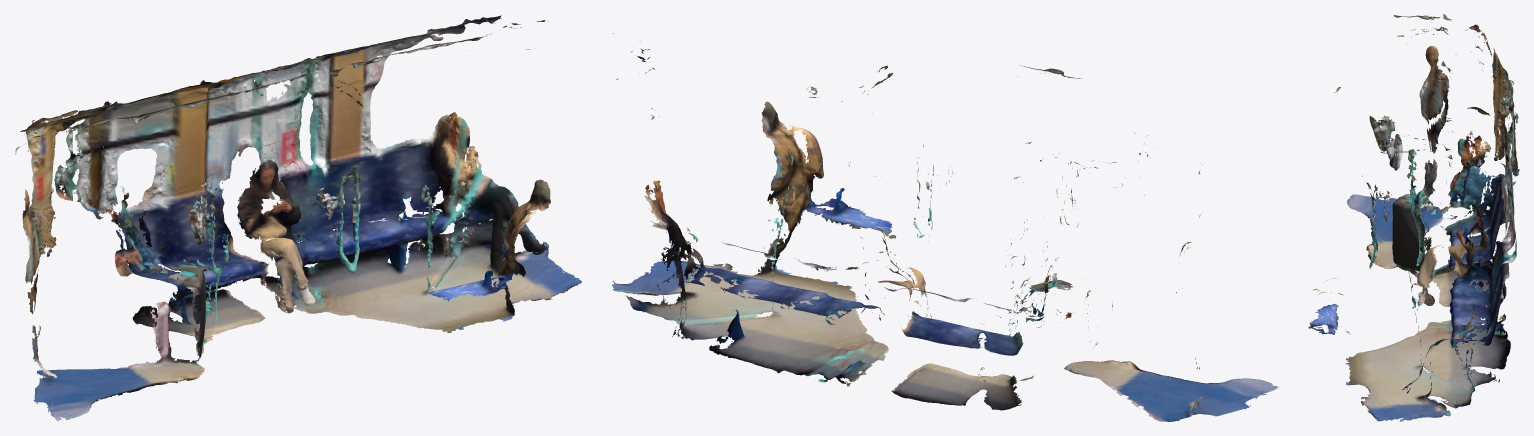
File: trainseats.glb
3 views of the same model, side by side, from view 1: azimuth 30°, elevation 25°; view 2: azimuth 150°, elevation 25°; view 3: azimuth 270°, elevation 25° (orthographic). The views are drawn at different scales.
Parts seen in each view (by area): view 1: mesh; view 2: mesh; view 3: mesh.
Boxes of the visible parts, box(x1,y1,x2,y2) form: mesh: box(15, 15, 581, 421); mesh: box(612, 33, 1279, 421); mesh: box(1308, 14, 1519, 421).
Bounding box in the file's own units: 5.3 × 2.24 × 2.11.
Materials: 1 (1 with a texture image).
